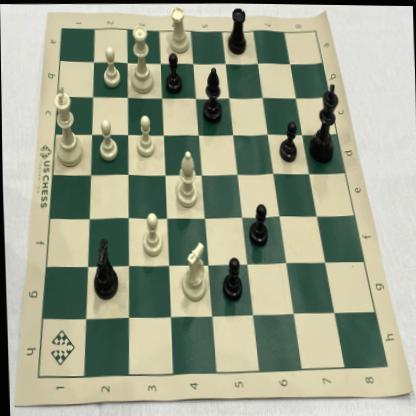black-bishop: (197, 62, 224, 125)
black-king: (305, 80, 342, 167)
black-pawn: (245, 197, 269, 250), (219, 253, 243, 303), (162, 49, 185, 95), (278, 118, 298, 166)
black-rook: (224, 3, 251, 59)
white-bishop: (171, 144, 199, 211)
white-king: (49, 80, 84, 169)
white-knight: (89, 234, 121, 303), (177, 237, 209, 304)
white-pawn: (138, 205, 164, 259), (94, 118, 121, 165), (132, 112, 157, 161), (99, 43, 123, 90)
white-queen: (128, 20, 155, 97)
white-rook: (166, 2, 191, 57)
